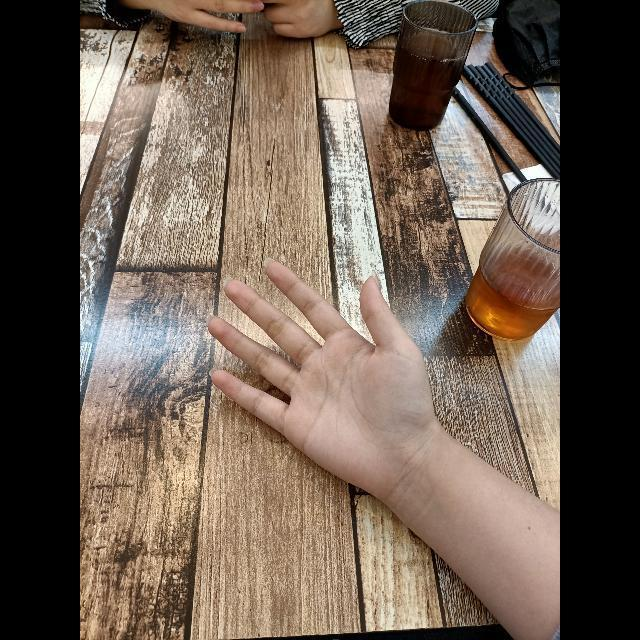bare_hand: (182, 252, 470, 511)
